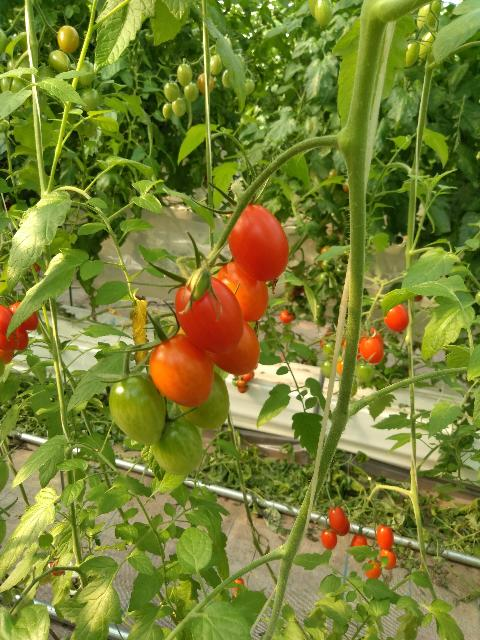l_fully_ripened: (174, 273, 245, 355), (228, 204, 289, 283), (9, 301, 39, 331), (383, 303, 409, 332), (359, 335, 383, 364), (0, 305, 17, 336), (377, 525, 394, 550), (329, 505, 345, 531), (0, 331, 19, 352), (321, 526, 337, 550), (334, 513, 350, 537), (15, 325, 29, 351), (350, 534, 368, 547)
l_green: (109, 371, 167, 447), (177, 370, 230, 431), (151, 416, 202, 477), (48, 50, 71, 73), (81, 88, 100, 113), (356, 361, 373, 382), (178, 63, 192, 87), (164, 82, 179, 103), (184, 81, 198, 102), (172, 97, 186, 116)
l_half_ripened: (148, 334, 213, 407), (216, 261, 269, 323), (206, 323, 260, 376), (57, 26, 80, 53), (379, 548, 396, 570), (365, 559, 382, 579)
